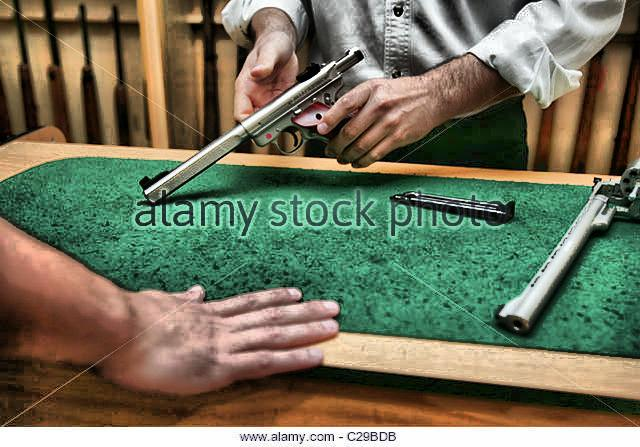pistol: (130, 37, 414, 213), (486, 121, 634, 335)
